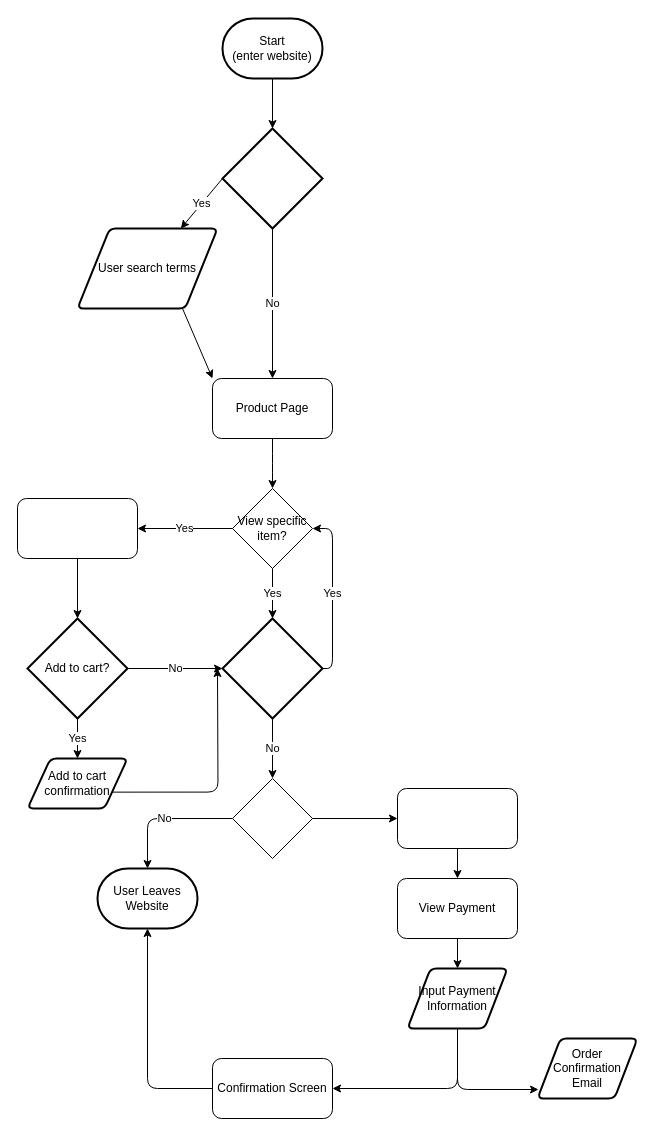
The diagram is 656 pixels wide and 1136 high, and some of its shapes have lost their labels. The centre of each missing label's shape, as x and y in pixels:
Check out?: [272,818]
Continue shopping?: [272,668]
Item Page: [77,528]
Search for a product?: [272,178]
View Cart: [457,818]
